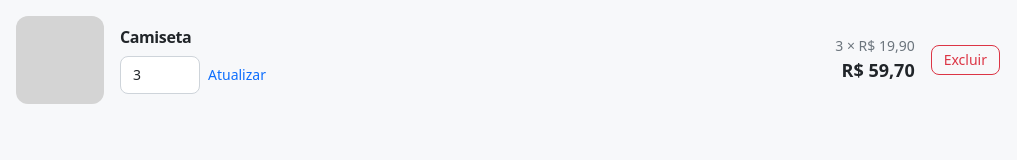
Test case: CartItemRow › mostra o erro do servidor ao atualizar
Click the button "Atualizar" at [237, 75], box x1=208 y1=65 x2=266 y2=85
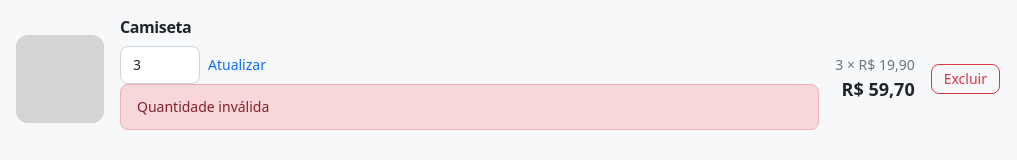
Check: the message reads "Quantidade inválida", box x1=137 y1=97 x2=269 y2=116
